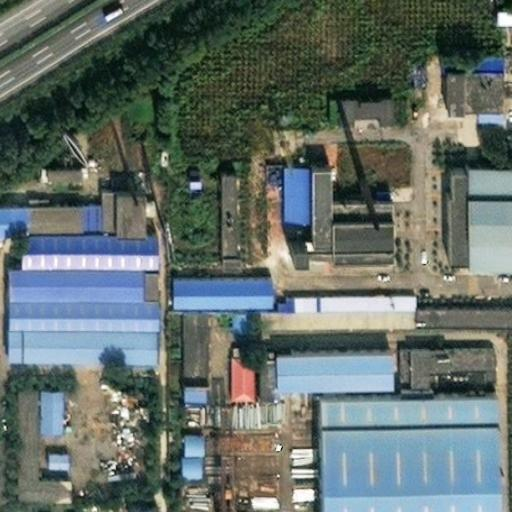building: (306, 383, 482, 512), (241, 283, 502, 315), (440, 159, 512, 259), (6, 377, 60, 487), (0, 183, 131, 222), (387, 336, 485, 384), (260, 338, 380, 377), (11, 221, 144, 256), (436, 43, 495, 101), (160, 266, 260, 297), (316, 210, 378, 247), (171, 297, 196, 368), (298, 157, 316, 235), (208, 162, 225, 244), (316, 189, 380, 210), (274, 157, 298, 210), (27, 377, 55, 422), (328, 86, 384, 108), (179, 434, 205, 481), (219, 335, 241, 387), (45, 165, 88, 185), (479, 114, 512, 132), (247, 346, 261, 385), (116, 494, 144, 512), (171, 368, 195, 388), (222, 297, 242, 320), (489, 0, 512, 11)
